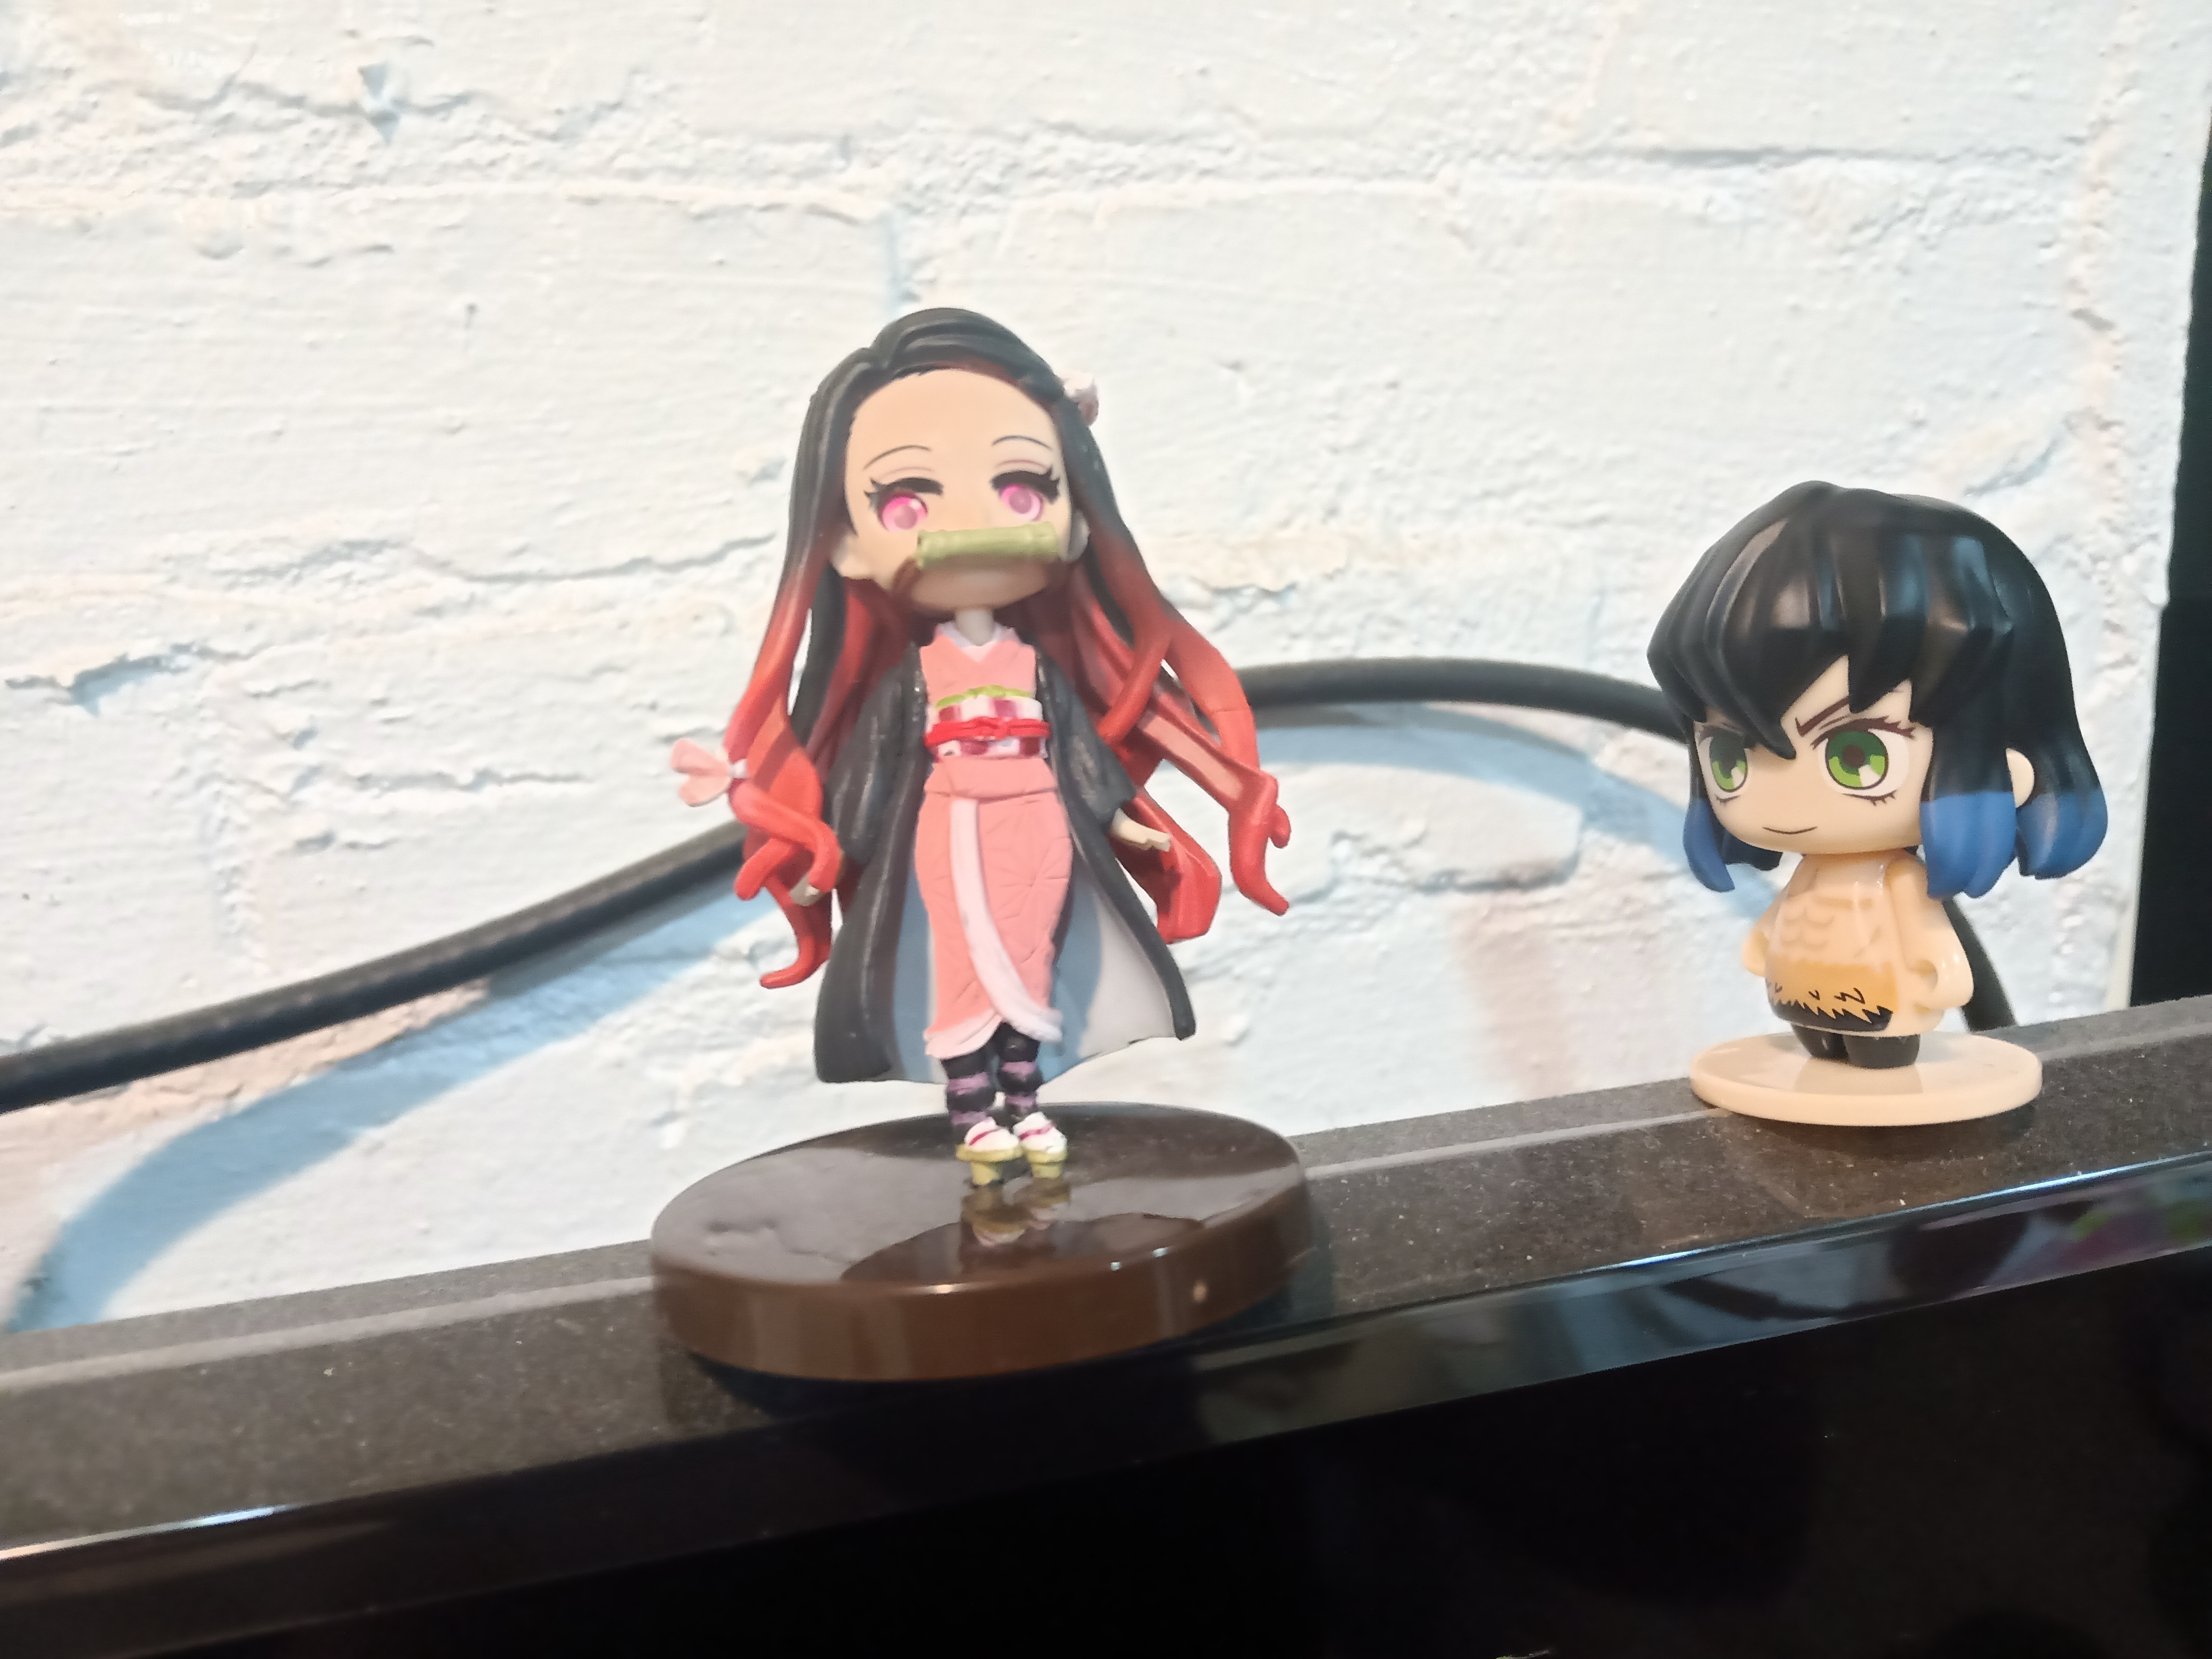Inosuke: (1630, 469, 2125, 1157)
Nezuko: (637, 284, 1346, 1412)
